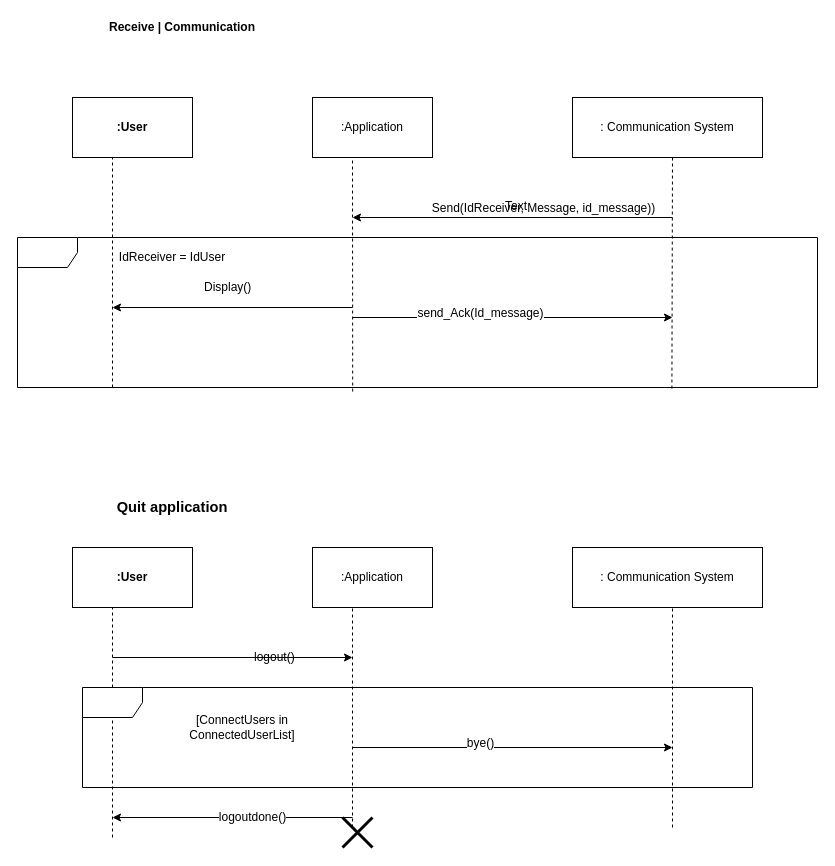
Image size: 835x866. Some labels were removed from this diagram. The shapes that lost their labels are listed below. From the top down, each one's box as (x1, y1, x2, y2) in pixels, then its label:
(16, 236, 818, 388): alt
(82, 686, 752, 788): loop
